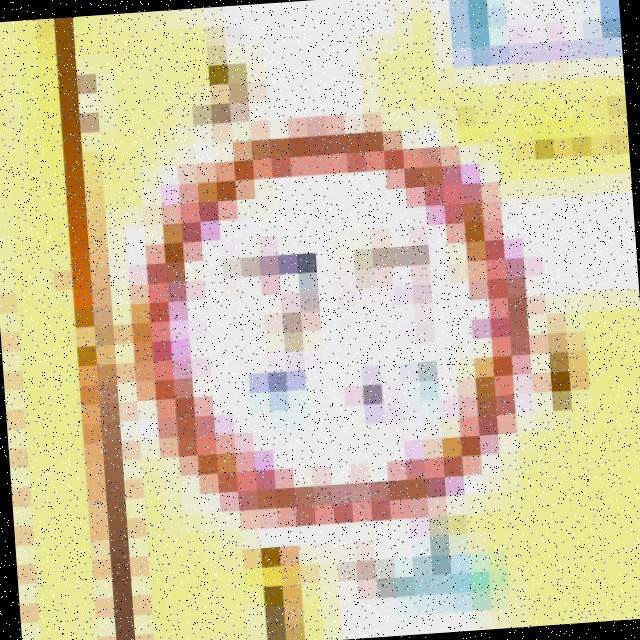Ograniczenie predkosci do 70: (126, 111, 540, 538)
